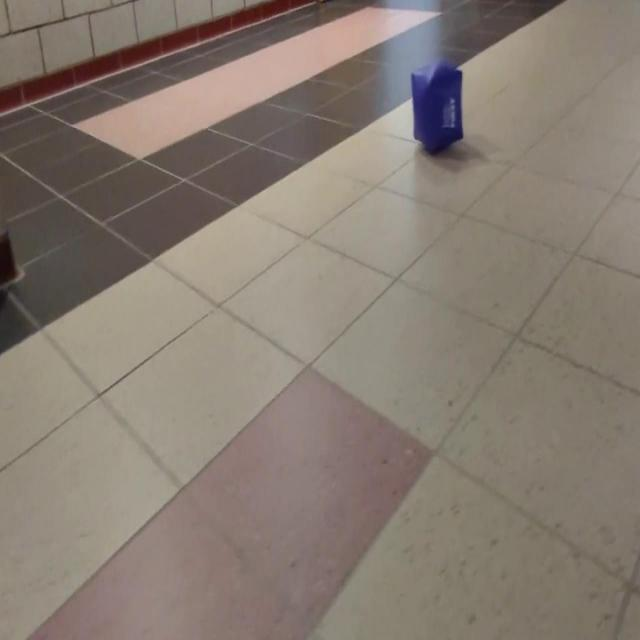frc_cube: (411, 63, 463, 155)
